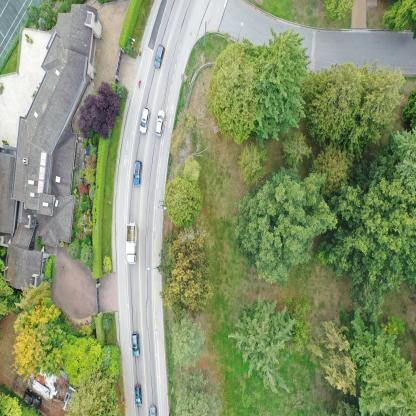Coniferous Tree: (232, 294, 307, 392), (354, 318, 416, 416), (256, 32, 309, 146), (209, 39, 262, 143), (305, 56, 369, 142), (163, 231, 215, 314), (308, 314, 357, 397), (368, 56, 409, 128), (65, 358, 113, 416), (174, 364, 216, 416), (162, 178, 200, 227), (168, 318, 206, 363), (317, 142, 349, 193), (170, 115, 206, 156), (398, 130, 416, 193), (238, 141, 264, 178), (18, 280, 52, 307), (285, 134, 309, 164), (0, 259, 11, 316), (335, 400, 363, 416), (81, 242, 93, 268), (79, 213, 92, 233), (27, 6, 41, 24), (68, 240, 80, 261), (40, 2, 54, 18), (118, 85, 127, 99)
Deciduous Tree: (321, 191, 416, 303), (232, 170, 324, 281), (14, 314, 62, 375), (76, 84, 119, 140), (65, 334, 102, 386), (385, 0, 416, 30), (325, 0, 346, 21)
